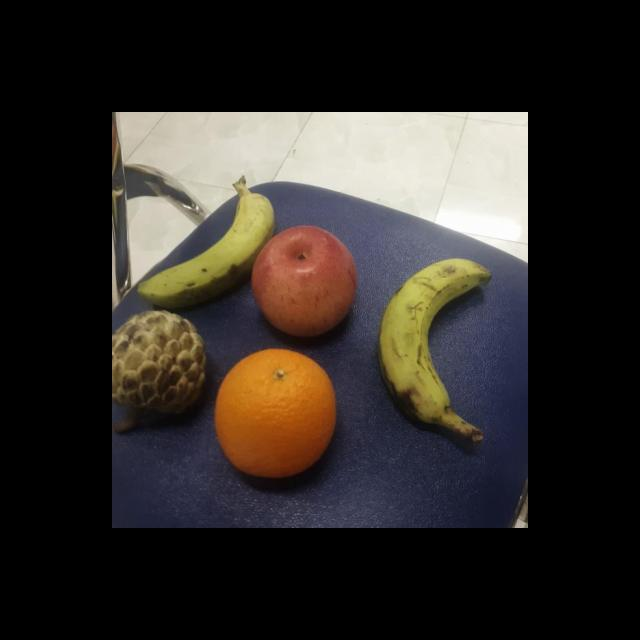Sakya fruit: (112, 307, 211, 416)
apple: (248, 223, 359, 339)
banana: (374, 253, 494, 425), (136, 190, 277, 310)
orange: (212, 346, 340, 479)
